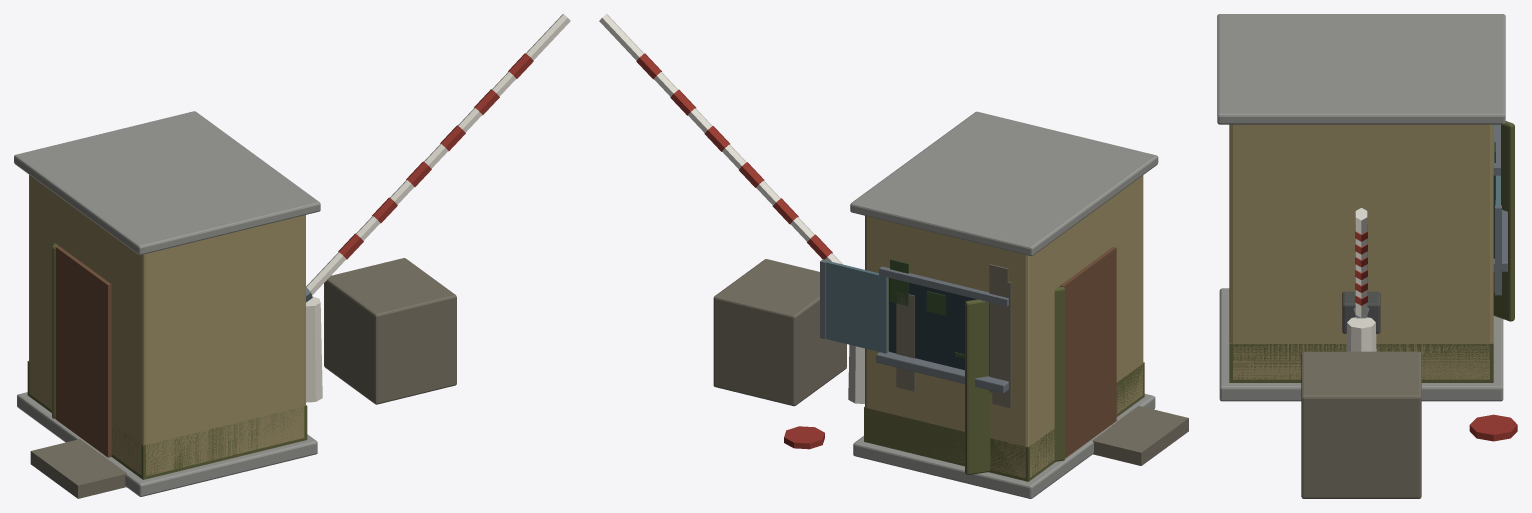
File: checkpoint_booth.glb
3 views of the same model, side by side, from view 1: azimuth 30°, elevation 25°; view 2: azimuth 150°, elevation 25°; view 3: azimuth 270°, elevation 25° (orthographic). The views are drawn at different scales.
Parts seen in each view (by area): view 1: checkpoint_booth; view 2: checkpoint_booth; view 3: checkpoint_booth.
Boxes of the visible parts, <box> form: checkpoint_booth: <box>14,14,570,498</box>; checkpoint_booth: <box>599,14,1188,498</box>; checkpoint_booth: <box>1217,14,1517,498</box>.
Size of what is drawn, in the model's own units: 5.92 by 3.36 by 2.5.
3 materials, 3 textured.
